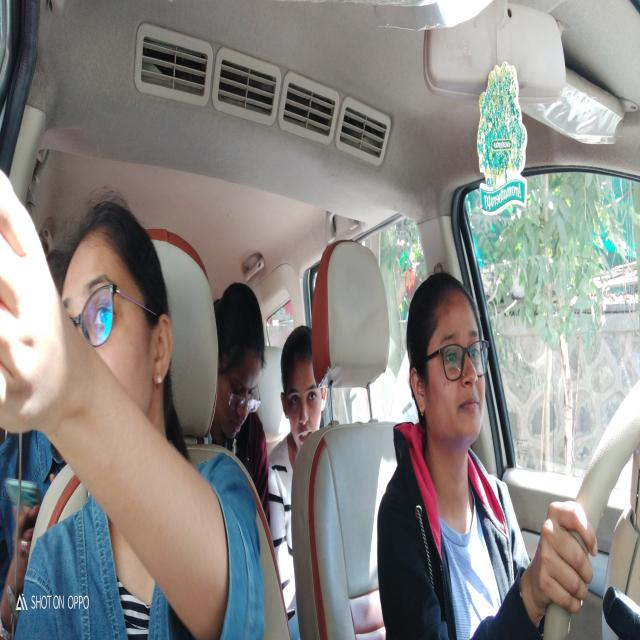person: (60, 192, 175, 454), (404, 272, 496, 469), (212, 274, 268, 441), (279, 321, 327, 458)
